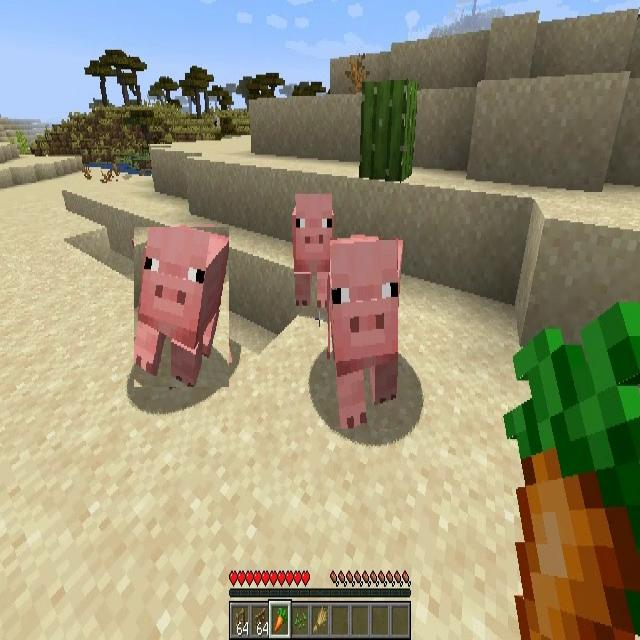pig: (134, 228, 229, 388), (330, 238, 398, 429), (295, 192, 329, 308)
